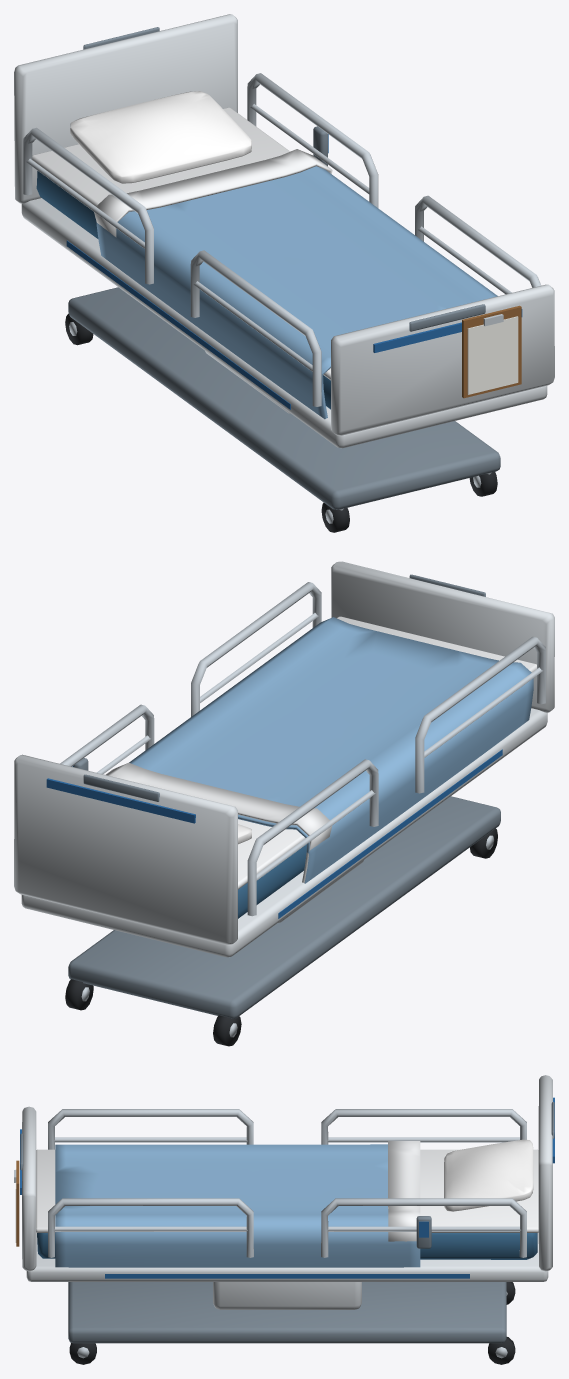
Rendered from bed.glb.
The picture shows the model from 3 angles, top to bottom: view 1: azimuth 30°, elevation 25°; view 2: azimuth 150°, elevation 25°; view 3: azimuth 270°, elevation 25°; orthographic projection. The views are drawn at different scales.
Parts seen in each view (by area): view 1: Main; view 2: Main; view 3: Main.
Part boxes in pixels (bbox=[...]): Main: bbox=[14, 14, 554, 532]; Main: bbox=[14, 561, 554, 1046]; Main: bbox=[14, 1075, 554, 1364].
Size of the model in its own units: 0.916 by 0.9625 by 2.18.
